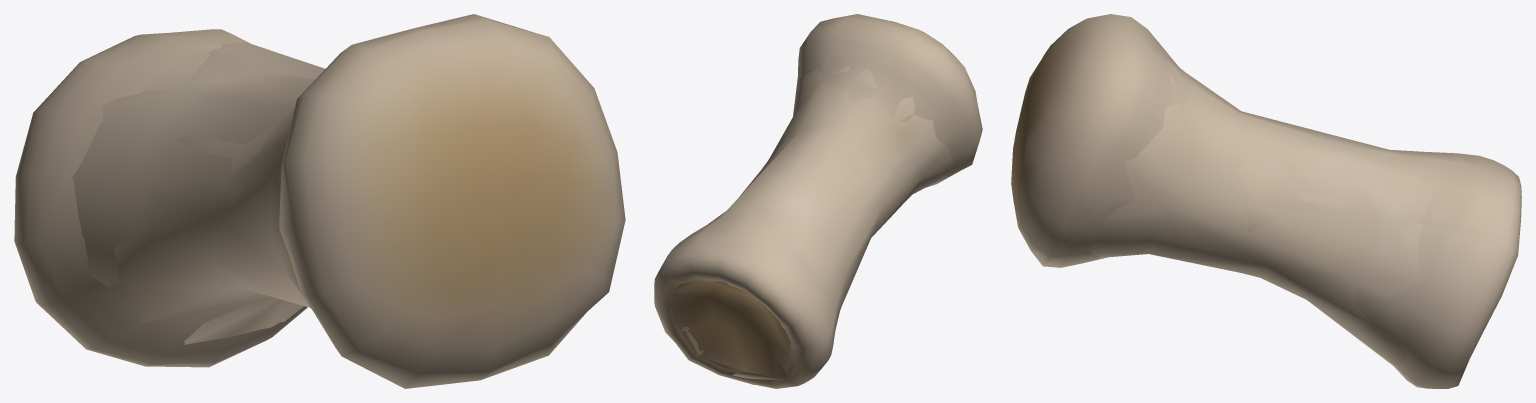
The model's file is vertebrae caudales 03.fbx.
3 views of the same model, side by side, from view 1: azimuth 30°, elevation 25°; view 2: azimuth 150°, elevation 25°; view 3: azimuth 270°, elevation 25° (orthographic). The views are drawn at different scales.
Visible parts, largest first — view 1: vertebrae caudales 03, vertebrae caudales 03 low; view 2: vertebrae caudales 03, vertebrae caudales 03 low; view 3: vertebrae caudales 03, vertebrae caudales 03 low.
Boxes of the visible parts, x1,y1,x2,y2 form: vertebrae caudales 03: (14,14,625,388); vertebrae caudales 03 low: (72,41,325,344); vertebrae caudales 03: (654,14,982,388); vertebrae caudales 03 low: (667,66,953,379); vertebrae caudales 03: (1011,14,1521,388); vertebrae caudales 03 low: (1089,59,1444,373).
Bounding box in the file's own units: 2.6 × 3.92 × 5.26.
1 material, 1 textured.
